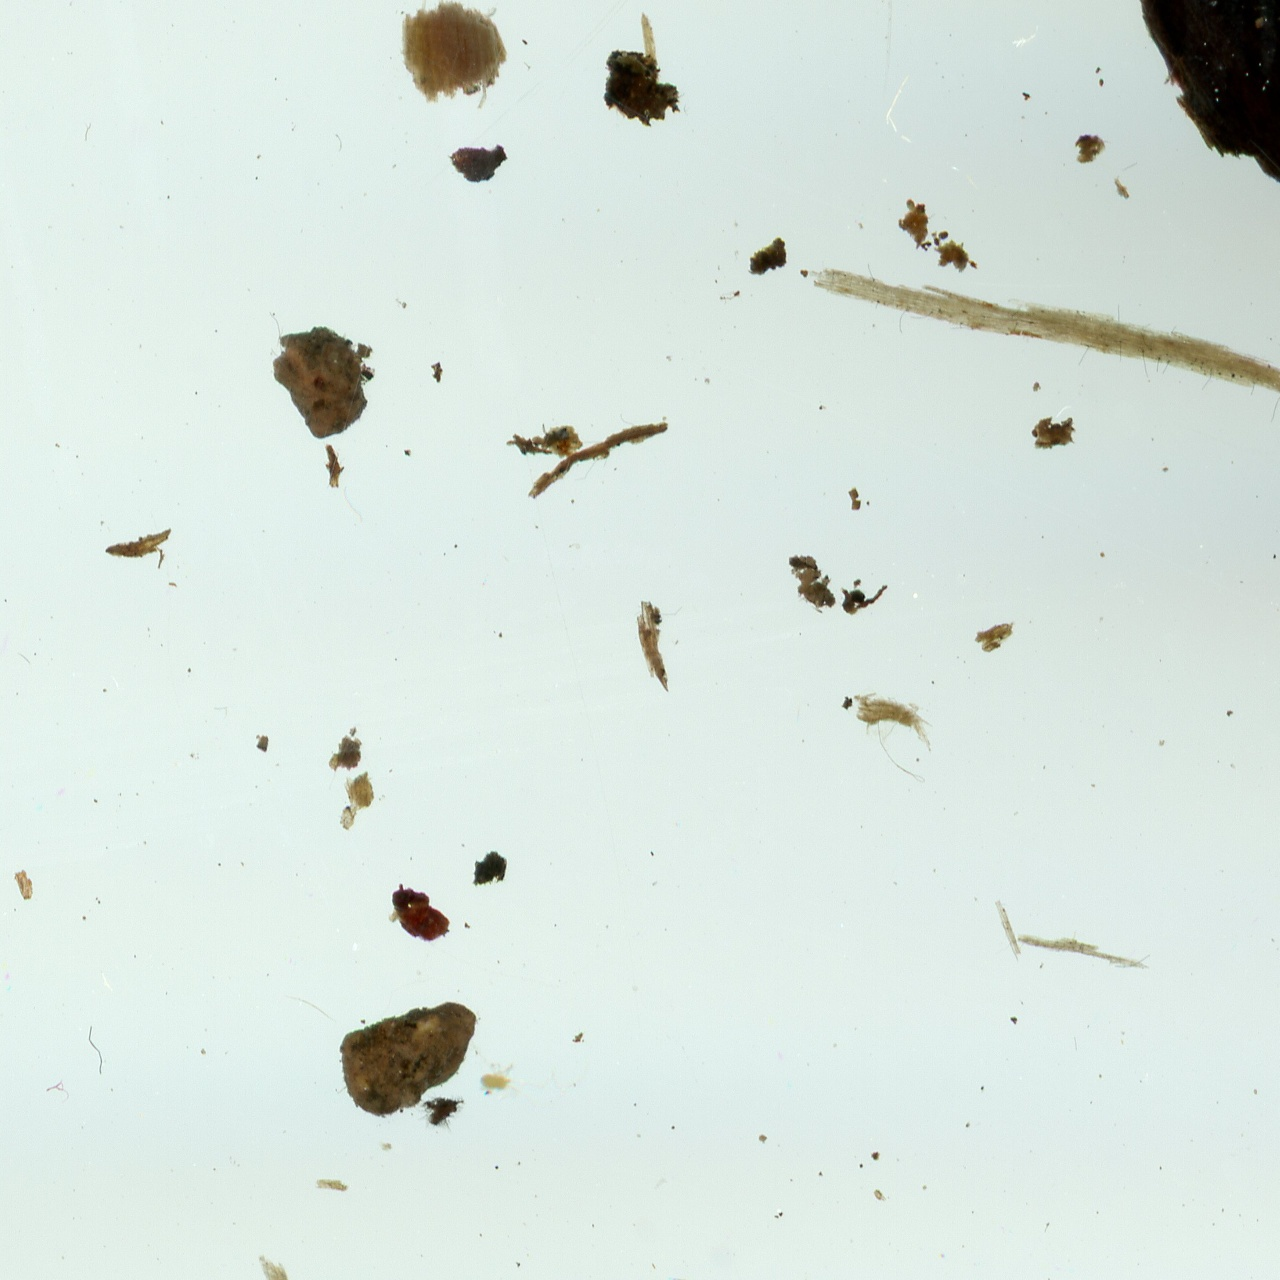arthropod: (470, 1043, 587, 1114), (632, 1264, 730, 1280)
